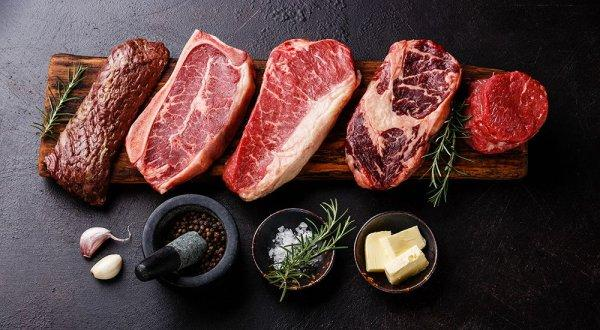beef: (218, 20, 335, 102), (135, 20, 244, 99), (332, 24, 433, 96), (442, 36, 515, 82)
